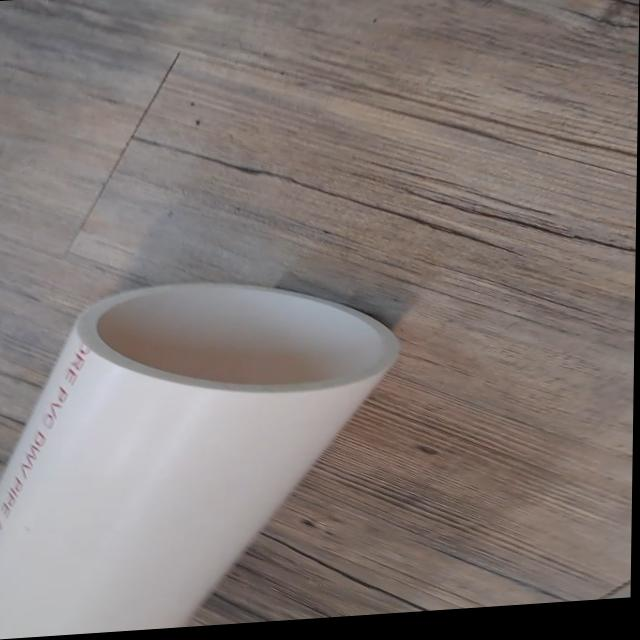CORAL: (0, 263, 403, 640)
